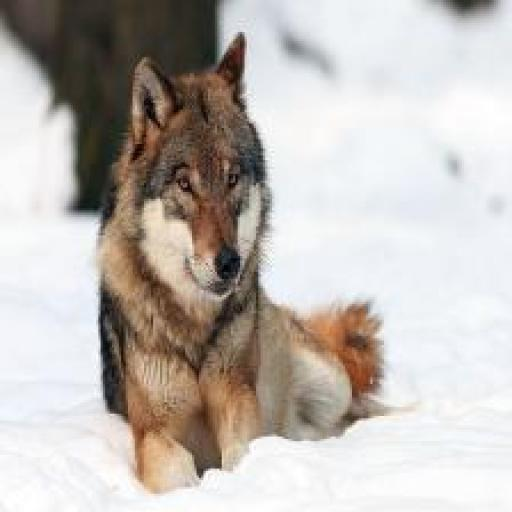wolf: (78, 14, 422, 510)
